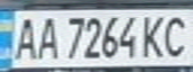2: (81, 12, 106, 60)
4: (118, 12, 142, 60)
6: (100, 12, 124, 60)
7: (60, 12, 84, 60)
A: (9, 14, 42, 61), (33, 12, 60, 61)
C: (160, 11, 193, 58)
K: (139, 11, 172, 58)
